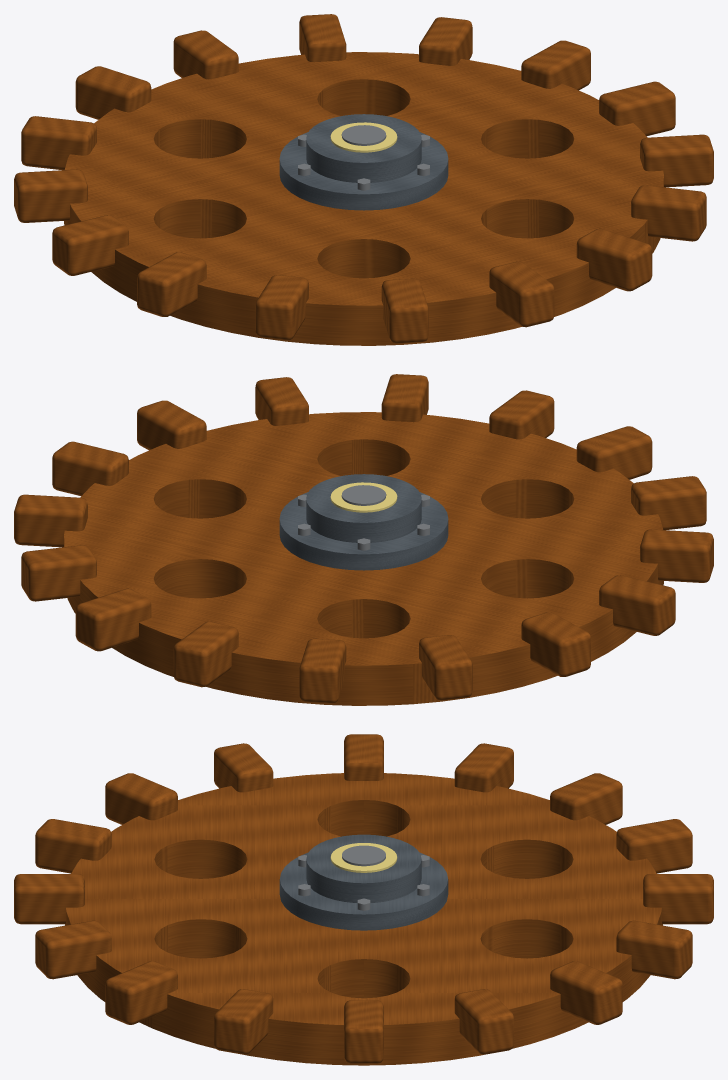
File: gear.glb
The picture shows the model from 3 angles, top to bottom: view 1: azimuth 30°, elevation 25°; view 2: azimuth 150°, elevation 25°; view 3: azimuth 270°, elevation 25°; orthographic projection.
Parts seen in each view (by area): view 1: bronze_gear_rim, gear_teeth_ring, steel_hub_flange, steel_hub_collar, brass_center_bushing, central_axle_shaft, hub_hex_bolts; view 2: bronze_gear_rim, gear_teeth_ring, steel_hub_flange, steel_hub_collar, brass_center_bushing, central_axle_shaft, hub_hex_bolts; view 3: bronze_gear_rim, gear_teeth_ring, steel_hub_flange, steel_hub_collar, brass_center_bushing, central_axle_shaft, hub_hex_bolts.
Boxes of the visible parts, left/top/right/bottom form: bronze_gear_rim: left=64, top=52, right=663, bottom=345; gear_teeth_ring: left=14, top=14, right=713, bottom=343; steel_hub_flange: left=279, top=132, right=448, bottom=210; steel_hub_collar: left=306, top=114, right=421, bottom=182; brass_center_bushing: left=330, top=122, right=397, bottom=152; central_axle_shaft: left=341, top=125, right=386, bottom=145; hub_hex_bolts: left=298, top=134, right=429, bottom=190; bronze_gear_rim: left=64, top=412, right=663, bottom=705; gear_teeth_ring: left=14, top=374, right=713, bottom=703; steel_hub_flange: left=279, top=492, right=448, bottom=570; steel_hub_collar: left=306, top=474, right=421, bottom=542; brass_center_bushing: left=330, top=482, right=397, bottom=512; central_axle_shaft: left=341, top=485, right=386, bottom=505; hub_hex_bolts: left=298, top=494, right=429, bottom=550; bronze_gear_rim: left=65, top=773, right=662, bottom=1065; gear_teeth_ring: left=14, top=734, right=713, bottom=1063; steel_hub_flange: left=279, top=852, right=448, bottom=930; steel_hub_collar: left=306, top=834, right=421, bottom=902; brass_center_bushing: left=330, top=843, right=397, bottom=872; central_axle_shaft: left=342, top=845, right=385, bottom=866; hub_hex_bolts: left=298, top=855, right=429, bottom=910.
Size of the model in its own units: 3.16 by 0.42 by 3.16.
11 materials, 2 textured.
